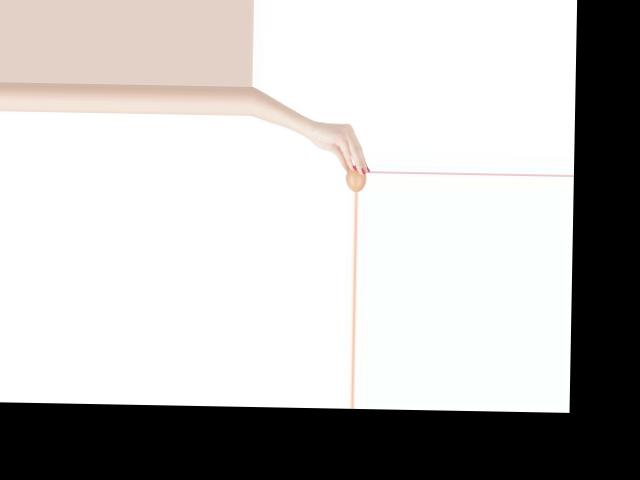egg: (345, 165, 366, 191)
